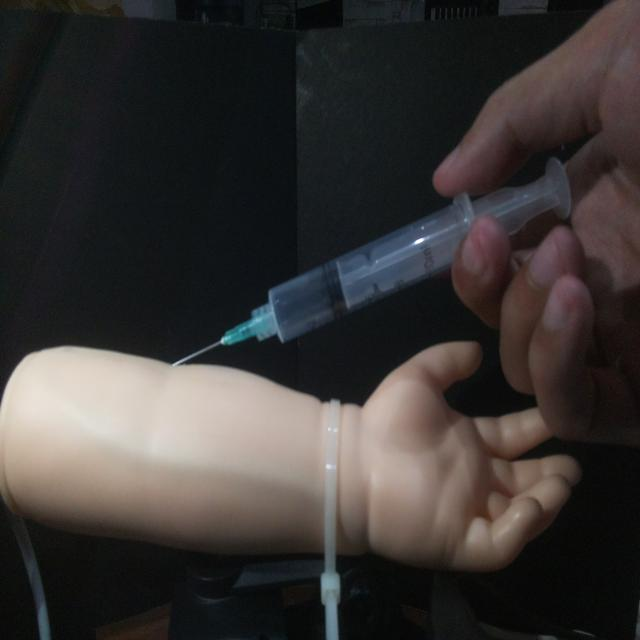23deg: (167, 152, 576, 370)
